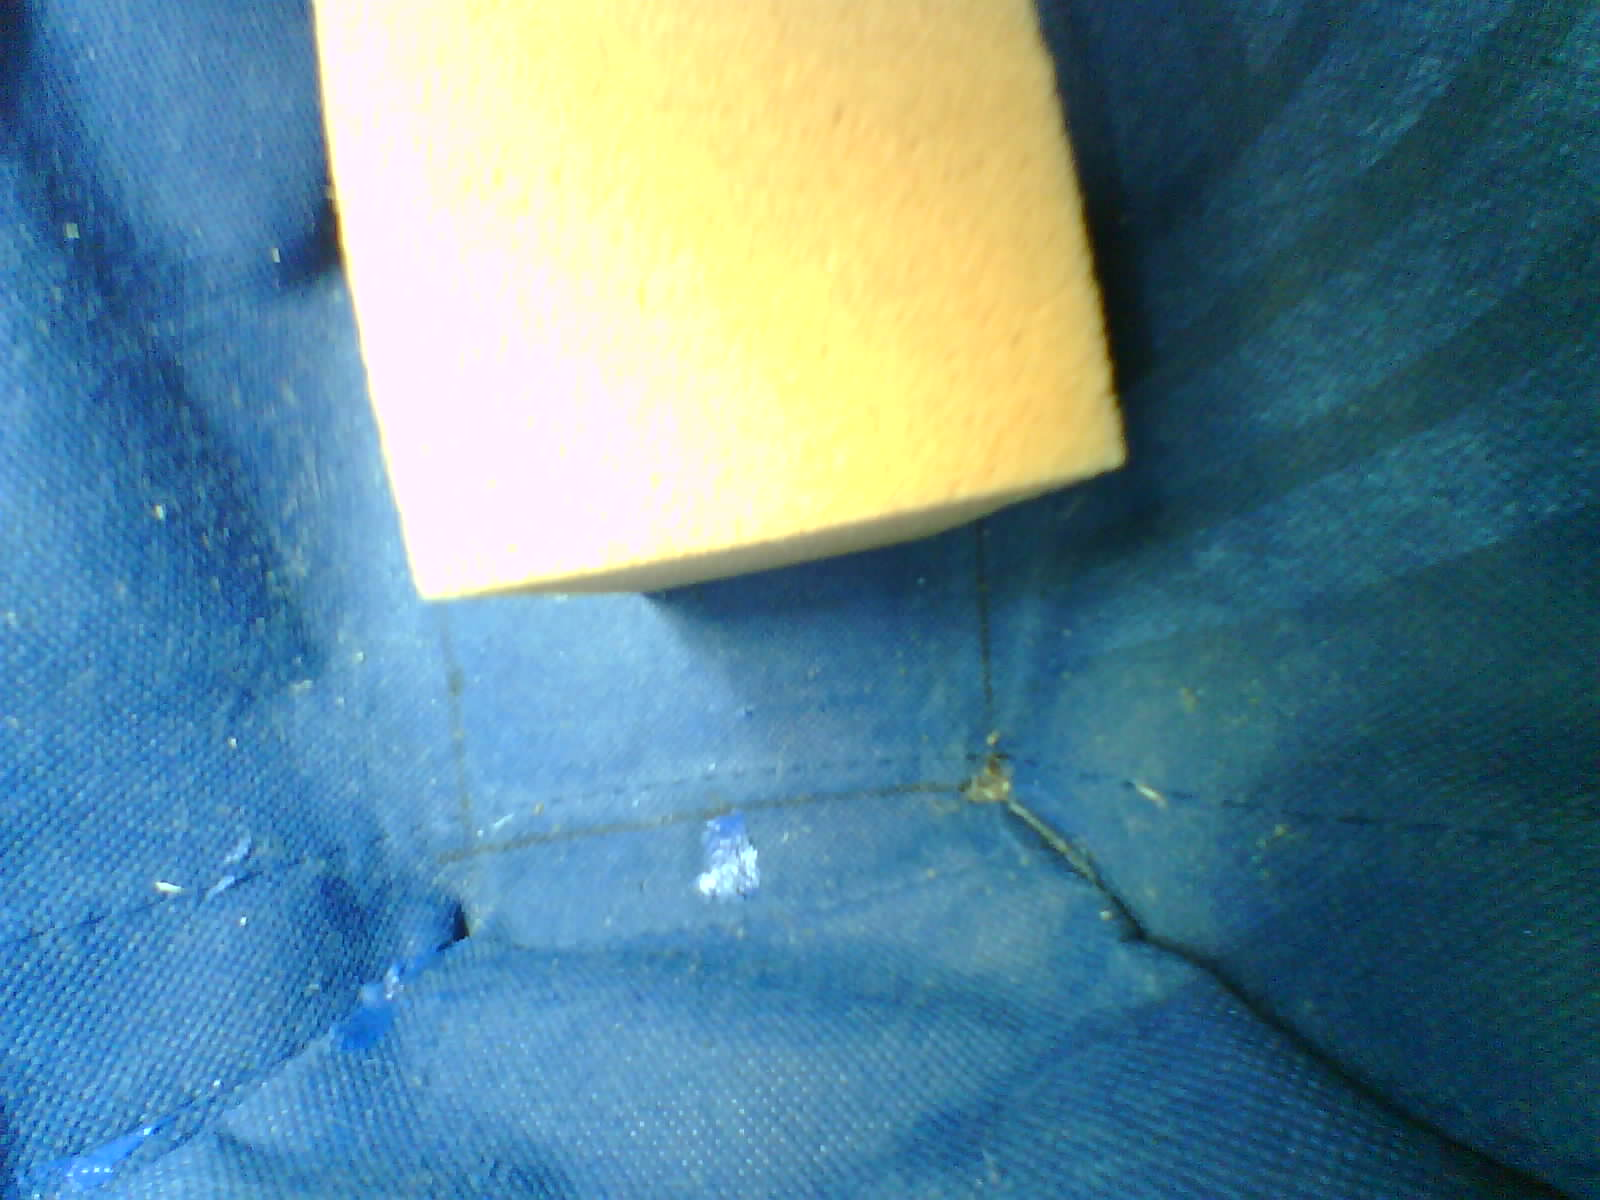cube-soft: (289, 0, 1140, 624)
